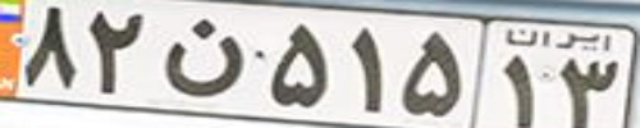1: (351, 27, 388, 111), (501, 54, 534, 127)
2: (87, 10, 143, 94)
3: (559, 56, 619, 127)
5: (402, 31, 464, 117), (270, 23, 327, 107)
8: (27, 6, 78, 88)
non: (164, 18, 244, 98)
